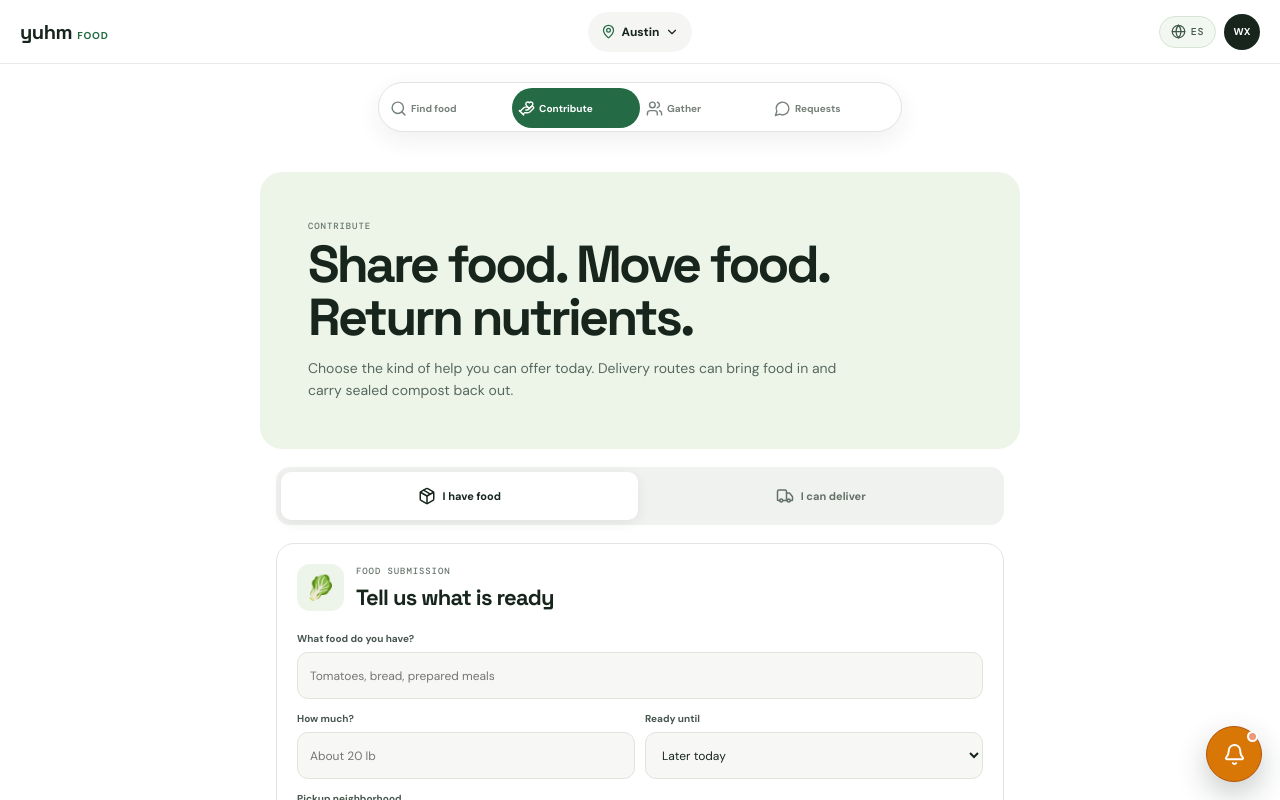
Test: yuhm entry points and interaction gates › switches between food submission and delivery contribution paths
This screenshot has width=1280, height=800.
Expected: the heading "Tell us what is ready" is shown, [356,583,554,611]
Step 1. Click the tab "I can deliver" → (821, 496), box [642,472,999,520]
(page scrolled)
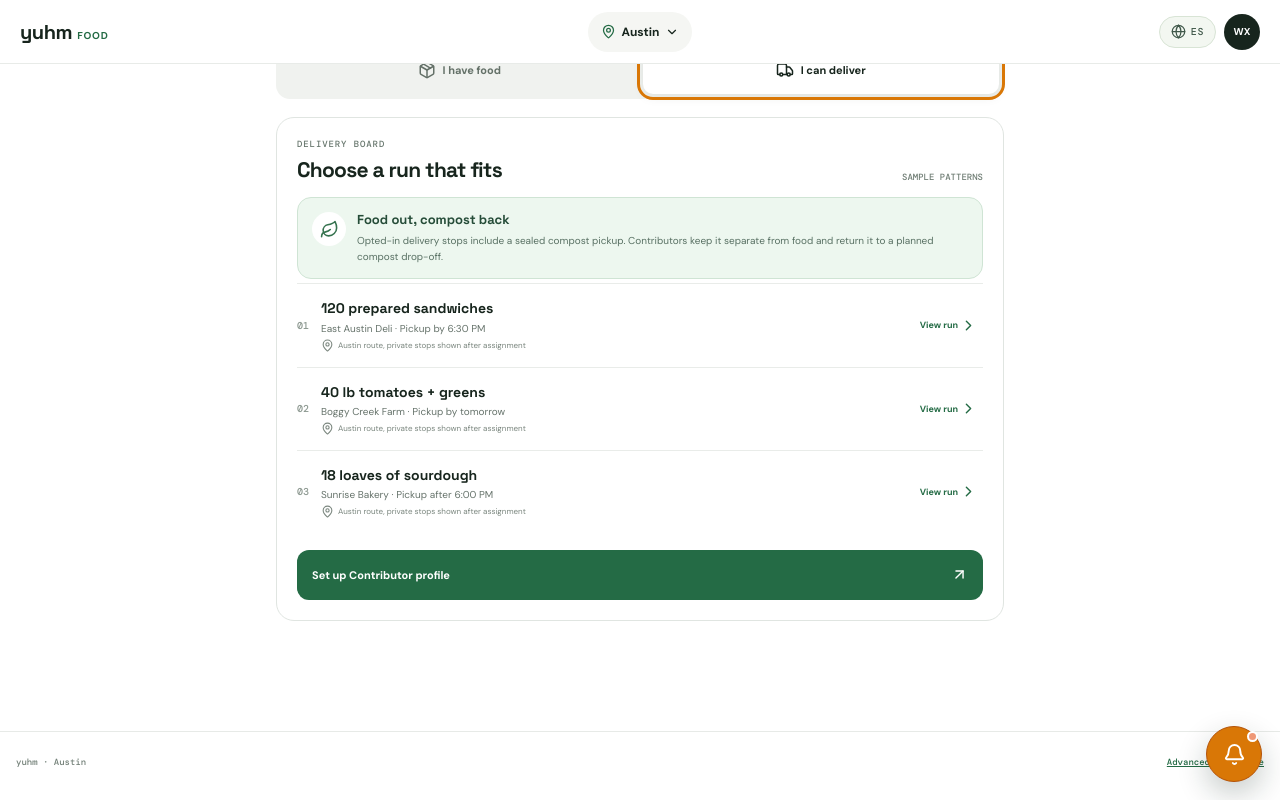
Expected: the heading "Choose a run that fits" is shown, [297,156,502,183]
Expected: the text "Food out, compost back" is shown, [357,211,510,228]
Expected: the text "sealed compost pickup" is shown, [357,234,934,263]
Step 2. Click the button "Set up Contributor profile" → (381, 575), box [297,550,983,600]
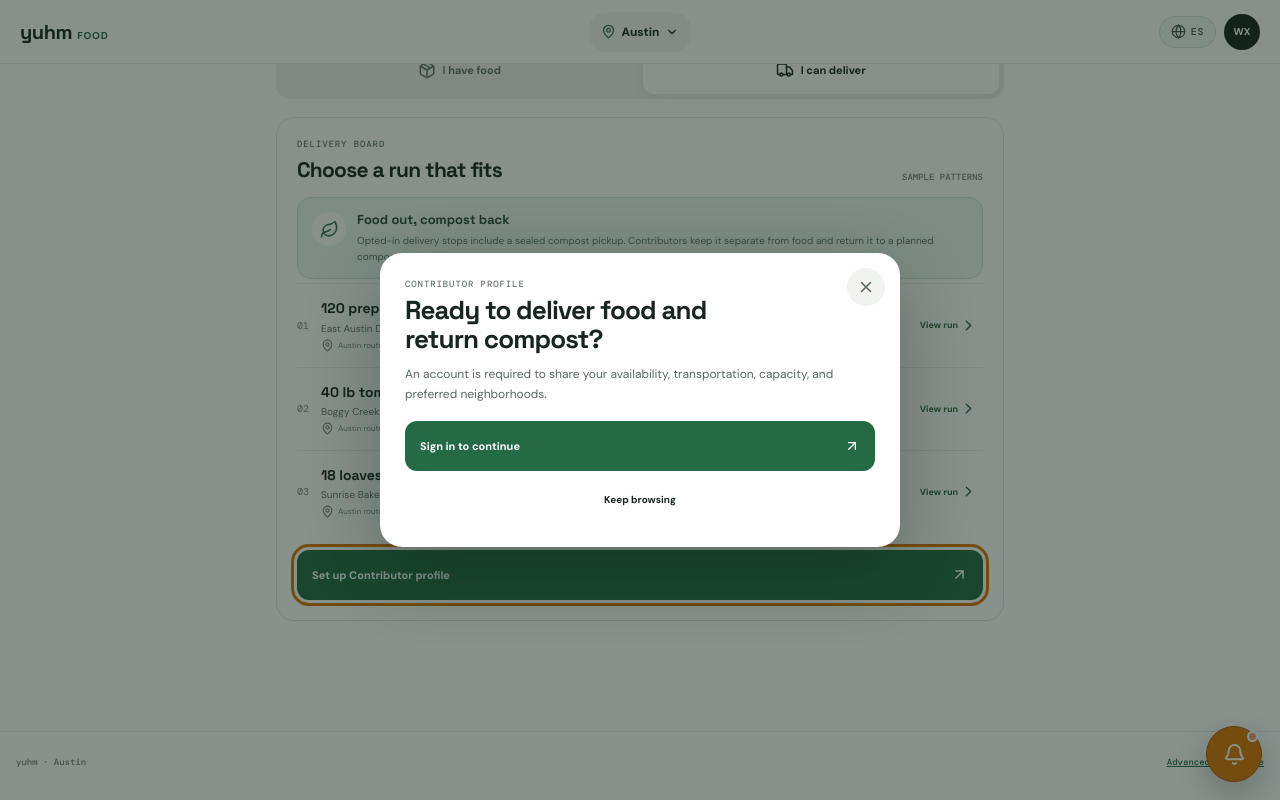
Expected: the dialog "Ready to deliver food and return compost" is shown
